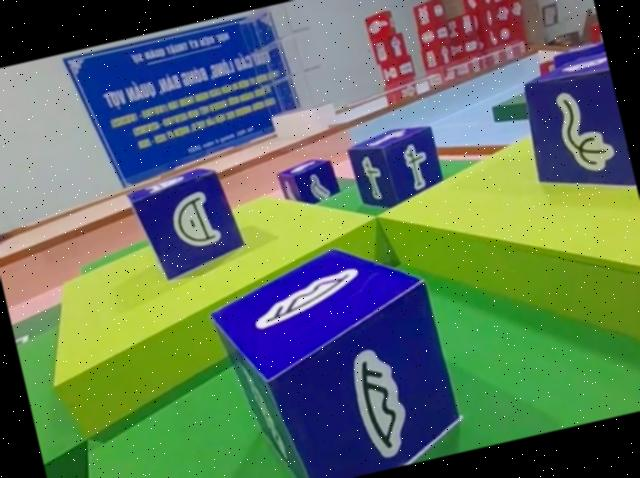R2 Real Blue: (202, 224, 471, 478), (514, 54, 638, 214), (125, 162, 250, 288), (346, 121, 450, 217), (272, 156, 341, 215)
